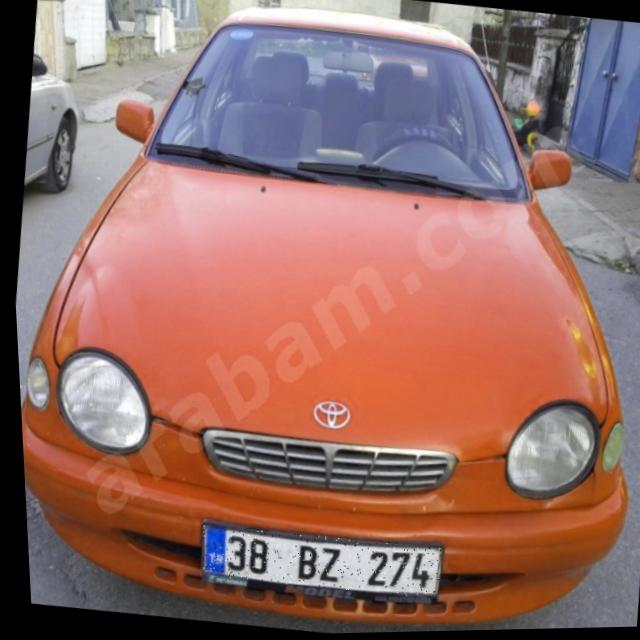license_plate: (191, 521, 436, 605)
